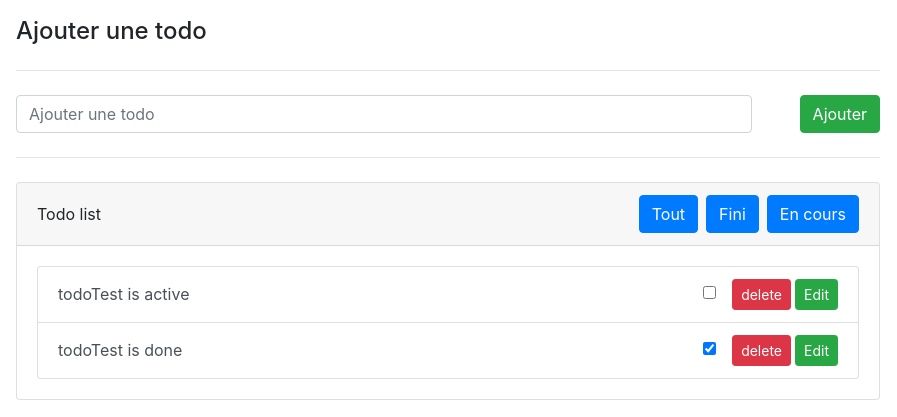
Test: <App /> › should display done todos on /todos/done
Expected: the heading "Ajouter une todo" is shown, [16,16,207,45]
Click the link "Fini": click(732, 214) [706,195,759,233]
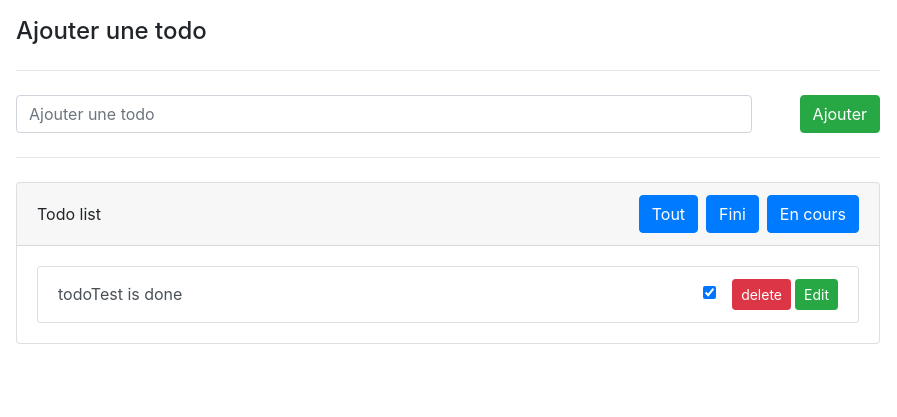
Expected: the text "todoTest is done" is shown once, [58,282,182,306]
Expected: the text "is active" is gone
